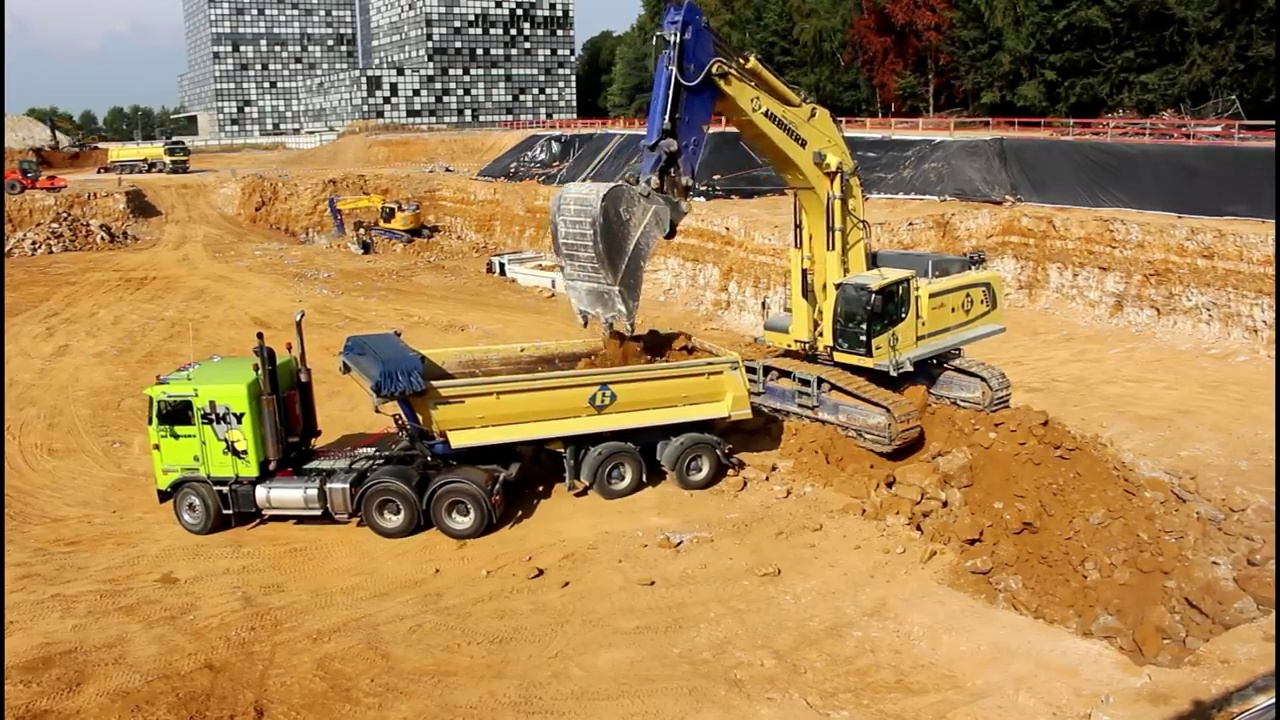compactor: (4, 151, 70, 196)
excavator: (554, 1, 1018, 457), (321, 189, 443, 257), (35, 117, 118, 159)
truck: (139, 305, 761, 545), (483, 245, 621, 326), (101, 134, 198, 178)
